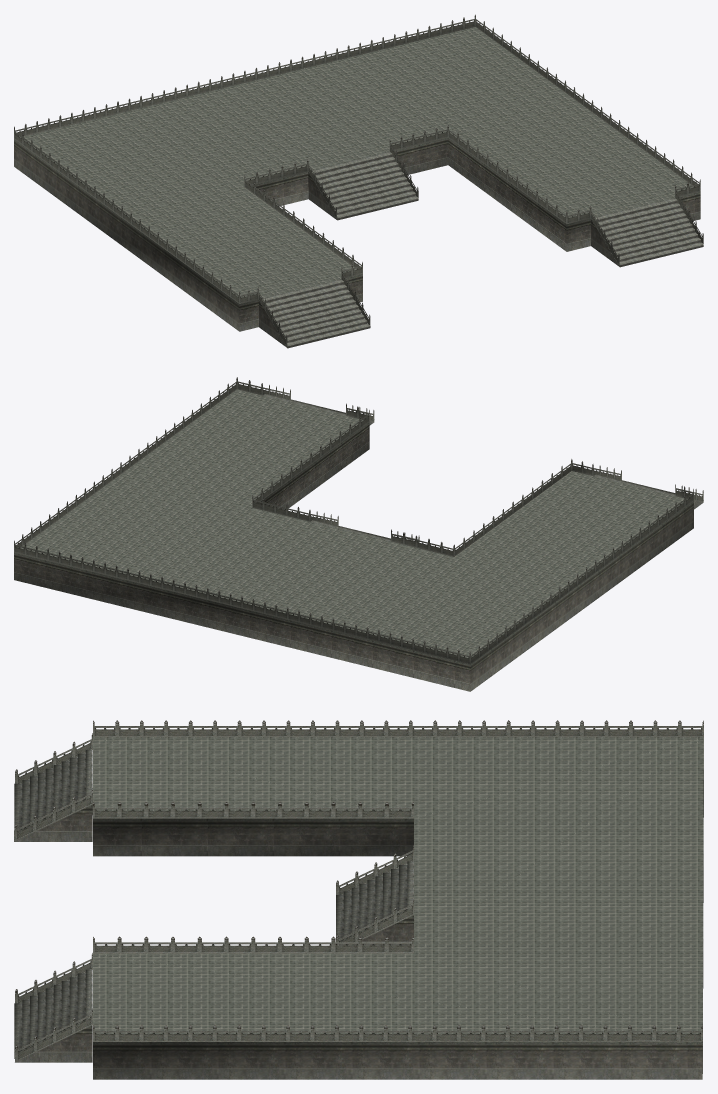
Rendered from cj_mili_mainstair.glb.
3 views of the same model, one above another, from view 1: azimuth 30°, elevation 25°; view 2: azimuth 150°, elevation 25°; view 3: azimuth 270°, elevation 25° (orthographic). The views are drawn at different scales.
Parts seen in each view (by area): view 1: CJ_mili_mainste04, CJ_mili_mainste02, CJ_mili_mainste01, CJ_mili_mainste03; view 2: CJ_mili_mainste04, CJ_mili_mainste02, CJ_mili_mainste01, CJ_mili_mainste03; view 3: CJ_mili_mainste04, CJ_mili_mainste02, CJ_mili_mainste01, CJ_mili_mainste03.
Part boxes in pixels (bbox=[...]): CJ_mili_mainste04: bbox=[20, 27, 693, 298]; CJ_mili_mainste02: bbox=[14, 137, 700, 347]; CJ_mili_mainste01: bbox=[14, 14, 703, 347]; CJ_mili_mainste03: bbox=[261, 152, 703, 348]; CJ_mili_mainste04: bbox=[20, 389, 687, 657]; CJ_mili_mainste02: bbox=[14, 421, 702, 691]; CJ_mili_mainste01: bbox=[14, 377, 703, 664]; CJ_mili_mainste03: bbox=[263, 394, 703, 541]; CJ_mili_mainste04: bbox=[93, 737, 703, 1033]; CJ_mili_mainste02: bbox=[14, 780, 703, 1079]; CJ_mili_mainste01: bbox=[14, 720, 703, 1061]; CJ_mili_mainste03: bbox=[14, 750, 413, 1058].
Bounding box in the file's own units: 52.3 × 4.37 × 50.04.
4 materials, 4 textured.
